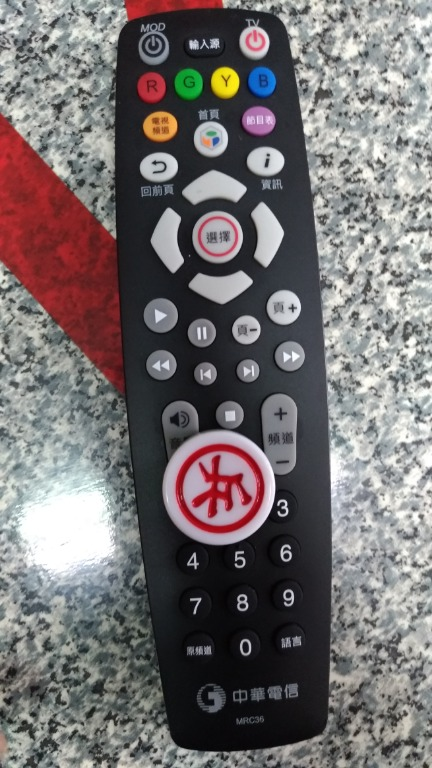r-pawn: (158, 425, 281, 554)
